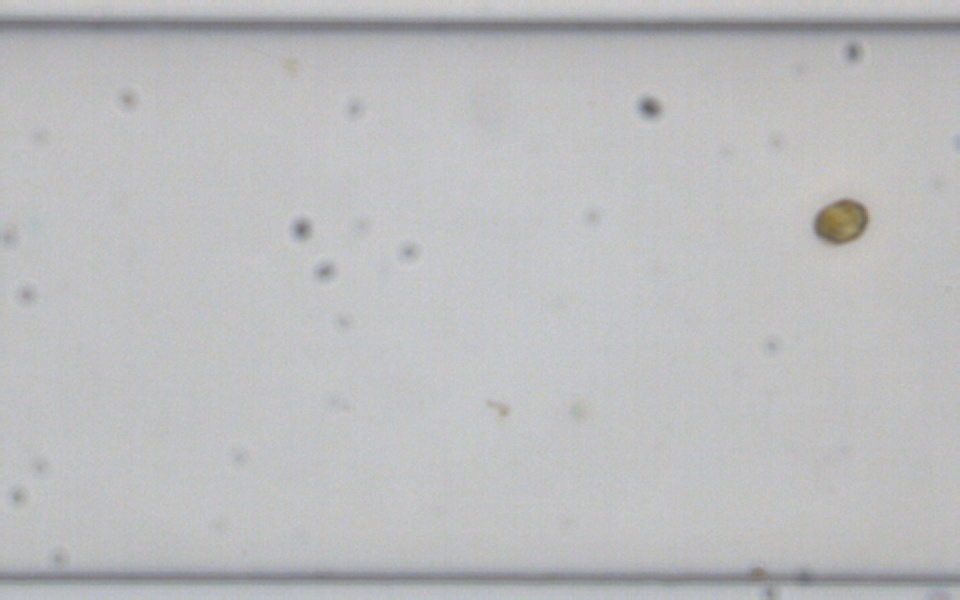Effrenium: (808, 194, 871, 248)
